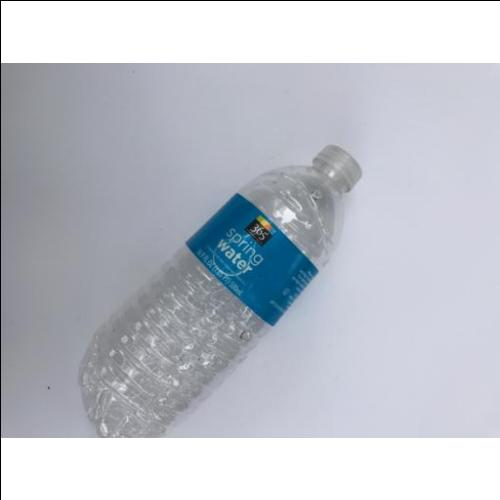plastic: (81, 144, 362, 439)
